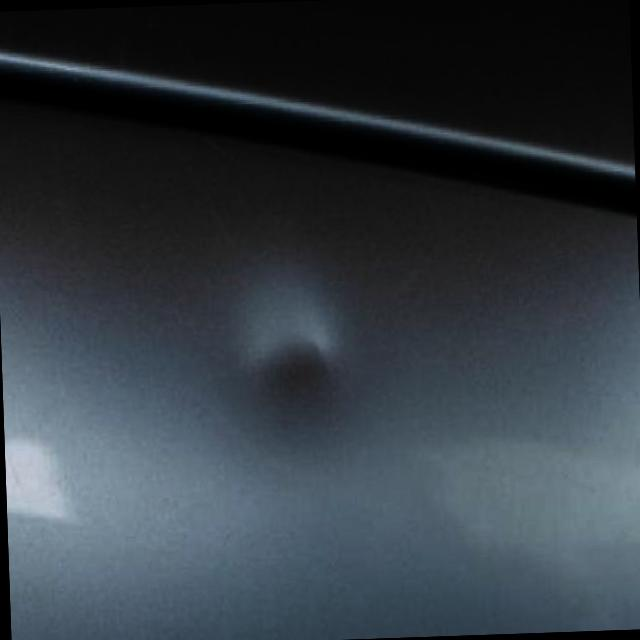dent: (266, 307, 344, 403)
